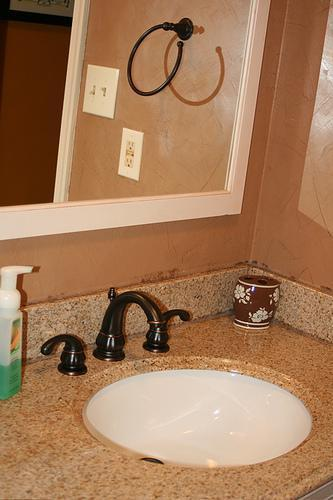Lavamanos: (33, 277, 321, 474)
